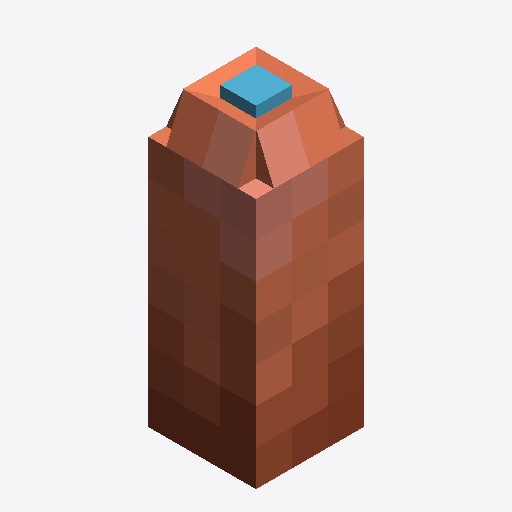
Isometric view (azimuth 45°, elevation 35.3°) of a Minecraft model made of 6 cuboids, textured from the same repository.
Parts seen in each view (by area): element 1, element 3, element 4, element 6, element 2, element 5.
Boxes of the visible parts, box(x1,y1,x2,y2) form: element 1: box(148, 127, 363, 488); element 3: box(256, 89, 345, 187); element 4: box(166, 89, 255, 187); element 6: box(220, 65, 291, 117); element 2: box(166, 47, 255, 128); element 5: box(256, 47, 345, 128).
Size of the model in its own units: 3 by 8.25 by 3.